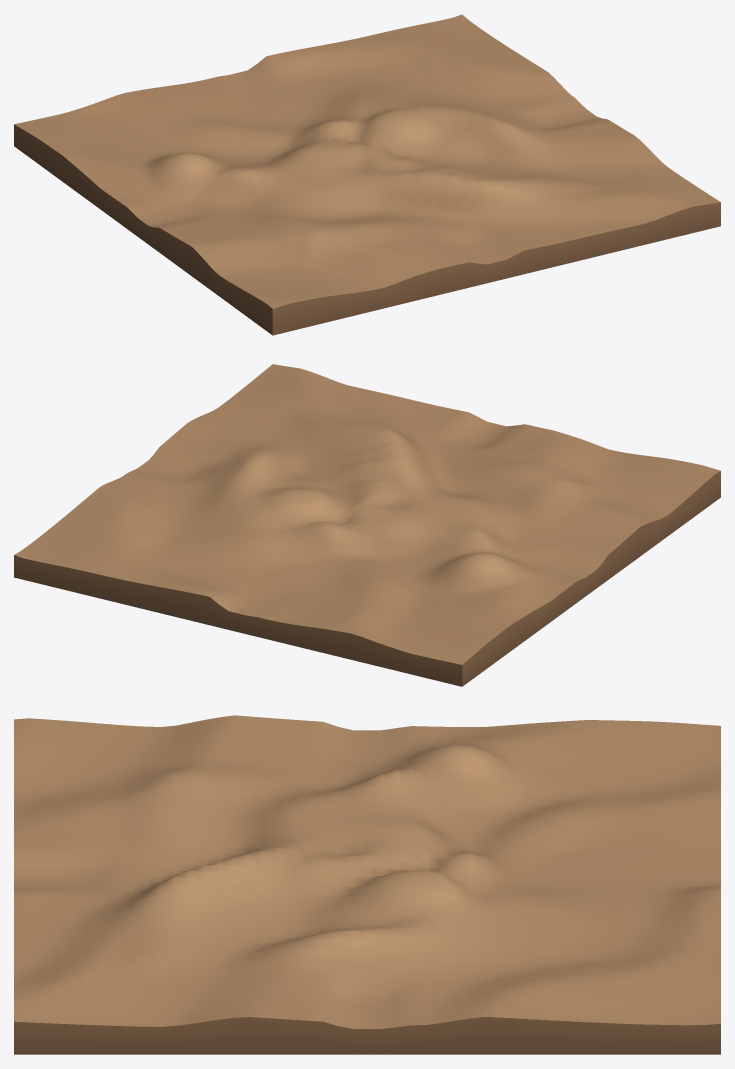
File: far.glb
3 renders of one model, top to bottom at view 1: azimuth 30°, elevation 25°; view 2: azimuth 150°, elevation 25°; view 3: azimuth 270°, elevation 25°, orthographic. The views are drawn at different scales.
Parts seen in each view (by area): view 1: far-proxy; view 2: far-proxy; view 3: far-proxy.
Part boxes in pixels (x1,y1,x2,y2): far-proxy: [14, 14, 720, 335]; far-proxy: [14, 364, 720, 686]; far-proxy: [14, 715, 720, 1054].
Bounding box in the file's own units: 500 × 46.03 × 500.
